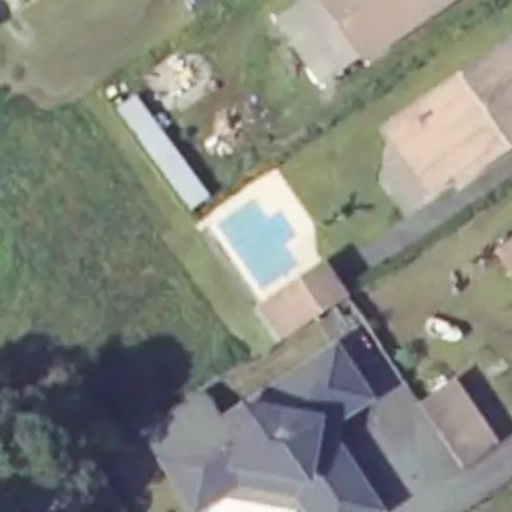pool: (213, 198, 305, 287)
